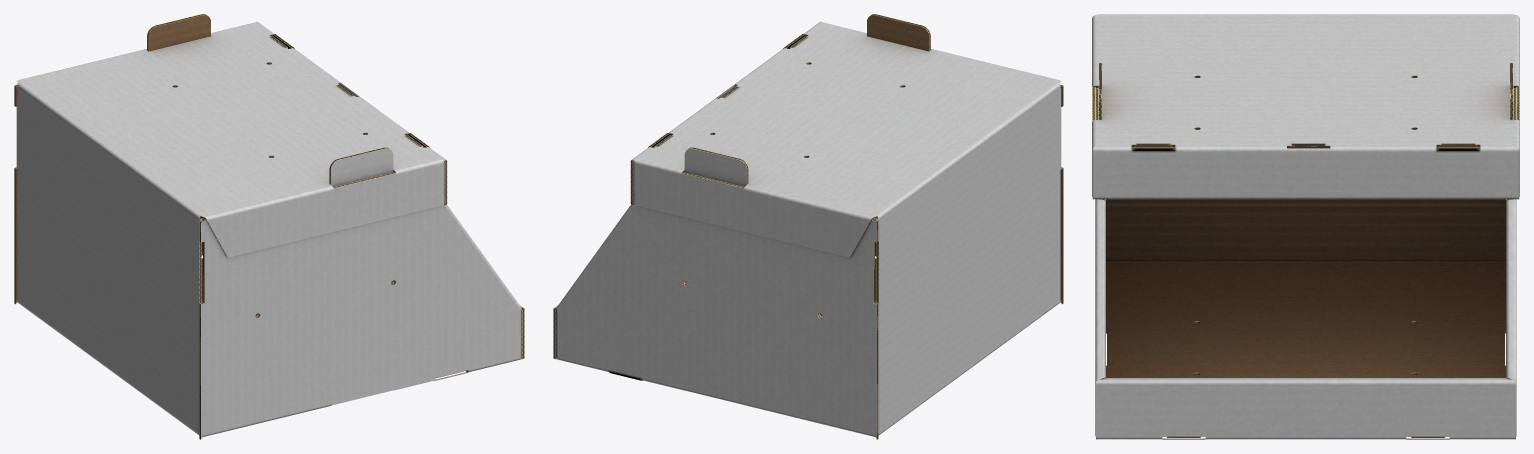
File: troquel1g0011.glb
The picture shows the model from 3 angles, left to right: view 1: azimuth 30°, elevation 25°; view 2: azimuth 150°, elevation 25°; view 3: azimuth 270°, elevation 25°; orthographic projection. The views are drawn at different scales.
Parts seen in each view (by area): view 1: TQ_ARD-node; view 2: TQ_ARD-node; view 3: TQ_ARD-node.
Part boxes in pixels (box(x1,y1,x2,y2)): TQ_ARD-node: box(14, 14, 524, 439); TQ_ARD-node: box(553, 14, 1063, 439); TQ_ARD-node: box(1092, 14, 1519, 439).
Size of the model in its own units: 0.3891 by 0.281 by 0.3942.
Materials: 3 (3 with a texture image).
